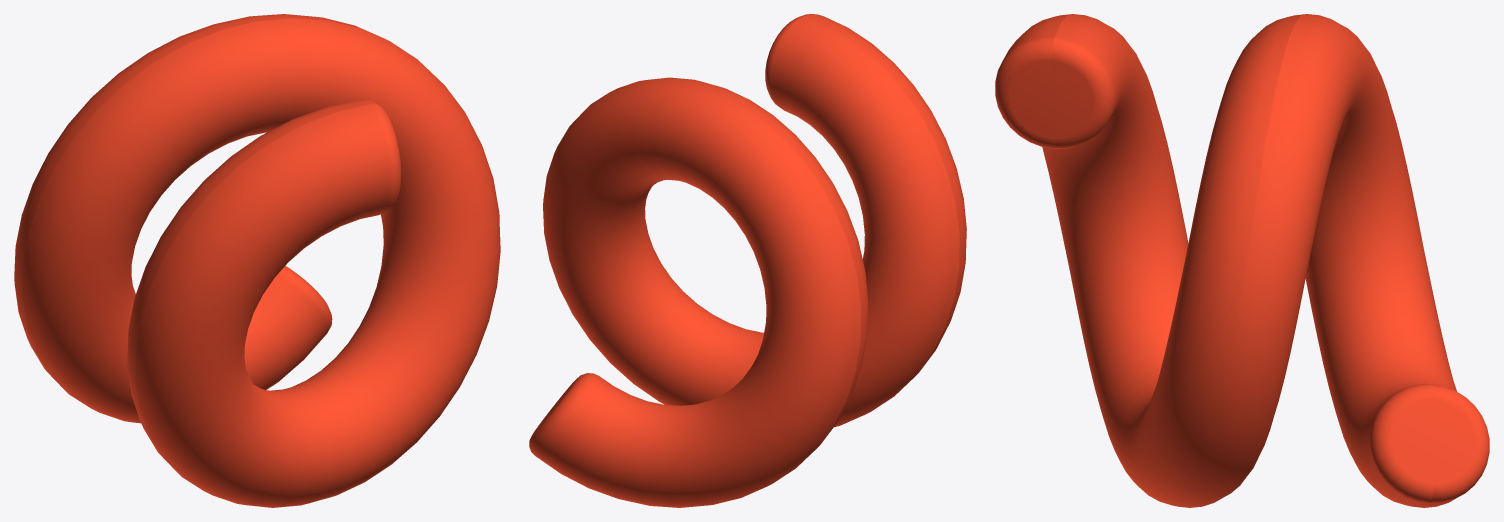
The model's file is helix.glb.
3 views of the same model, side by side, from view 1: azimuth 30°, elevation 25°; view 2: azimuth 150°, elevation 25°; view 3: azimuth 270°, elevation 25° (orthographic). The views are drawn at different scales.
Parts seen in each view (by area): view 1: Helix; view 2: Helix; view 3: Helix.
Part boxes in pixels (<box>): Helix: <box>14,14,500,507</box>; Helix: <box>529,14,966,507</box>; Helix: <box>995,14,1489,507</box>.
Bounding box in the file's own units: 0.1 × 0.1 × 0.1.
